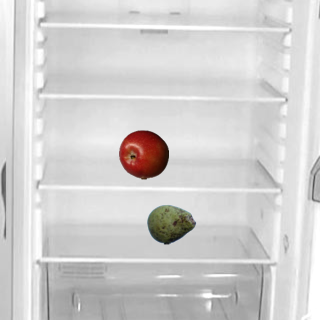Apple Braeburn: (118, 129, 168, 179)
Pear Stone: (146, 199, 196, 249)
